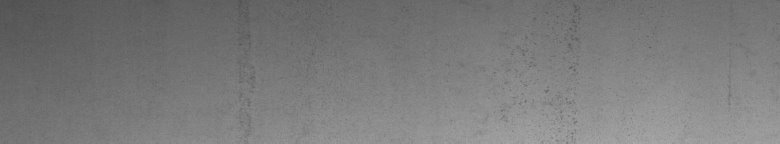ib: (501, 5, 579, 124)
